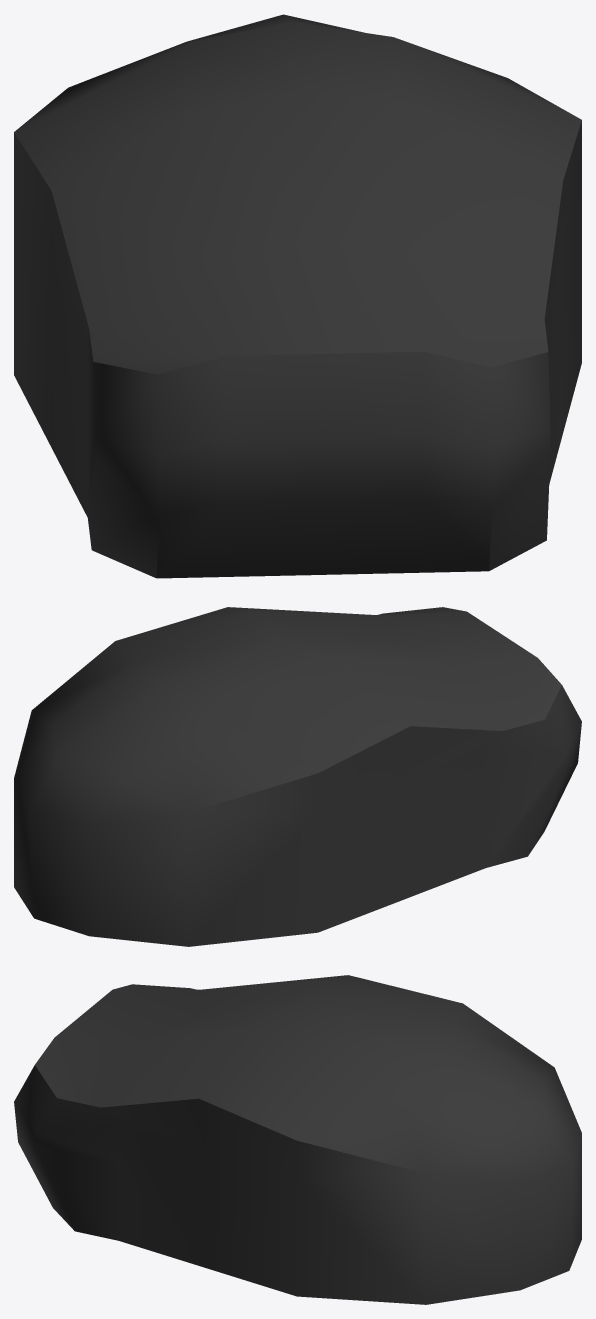
File: Mouse.fbx
3 views of the same model, one above another, from view 1: azimuth 30°, elevation 25°; view 2: azimuth 150°, elevation 25°; view 3: azimuth 270°, elevation 25° (orthographic). The views are drawn at different scales.
Visible parts, largest first — view 1: Mouse.004; view 2: Mouse.004; view 3: Mouse.004.
Boxes of the visible parts, bbox=[...] form: Mouse.004: bbox=[14, 14, 581, 578]; Mouse.004: bbox=[14, 607, 581, 946]; Mouse.004: bbox=[14, 975, 581, 1304].
Bounding box in the file's own units: 0.1086 × 0.055 × 0.1354.
